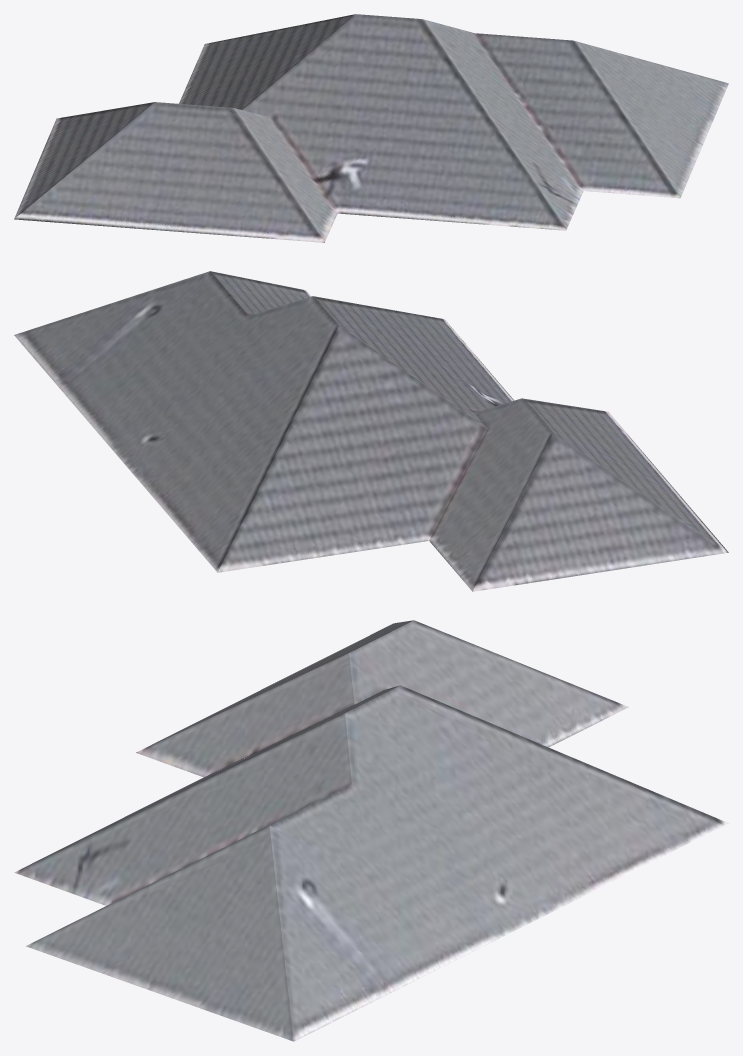
The model's file is BK39_500_013033_0024_roof.obj.
The picture shows the model from 3 angles, top to bottom: view 1: azimuth 30°, elevation 25°; view 2: azimuth 150°, elevation 25°; view 3: azimuth 270°, elevation 25°; orthographic projection. The views are drawn at different scales.
Parts seen in each view (by area): view 1: BK39_500_013033_0024_roof; view 2: BK39_500_013033_0024_roof; view 3: BK39_500_013033_0024_roof.
Part boxes in pixels (x1,y1,x2,y2): BK39_500_013033_0024_roof: [14, 14, 728, 242]; BK39_500_013033_0024_roof: [14, 271, 728, 591]; BK39_500_013033_0024_roof: [14, 620, 728, 1041].
Bounding box in the file's own units: 415 × 70 × 300.
1 material, 1 textured.
